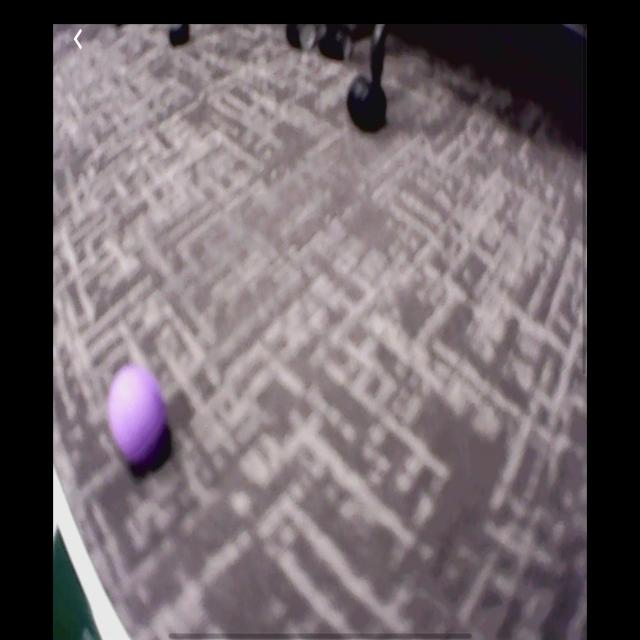ball: (107, 362, 173, 476)
